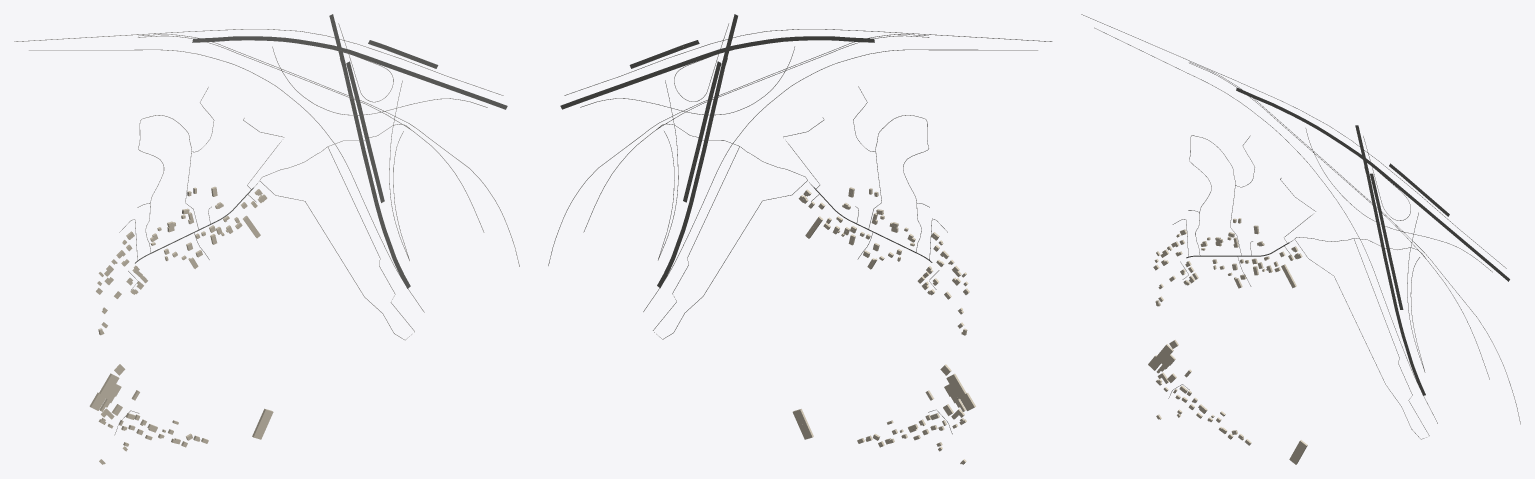
The model's file is historic-palestine-07_24_3493_3189.glb.
3 views of the same model, side by side, from view 1: azimuth 30°, elevation 25°; view 2: azimuth 150°, elevation 25°; view 3: azimuth 330°, elevation 25° (orthographic). The views are drawn at different scales.
Parts seen in each view (by area): view 1: Road 431.001, Road כביש ירושלים תל אביב.001, Building_.056, Road מסילת 431; view 2: Road 431.001, Road כביש ירושלים תל אביב.001, Building_.056, Road מסילת 431; view 3: Road 431.001, Road כביש ירושלים תל אביב.001.
Boxes of the visible parts, x1,y1,x2,y2 form: Road 431.001: (192,36,507,109); Road כביש ירושלים תל אביב.001: (362,150,410,288); Building_.056: (89,373,121,411); Road מסילת 431: (14,29,503,95); Road 431.001: (560,36,874,109); Road כביש ירושלים תל אביב.001: (657,149,705,288); Building_.056: (944,374,975,411); Road מסילת 431: (564,29,1052,95); Road 431.001: (1236,87,1509,281); Road כביש ירושלים תל אביב.001: (1383,257,1425,395).
Size of the model in its own units: 1575 by 1364 by 8.7.
